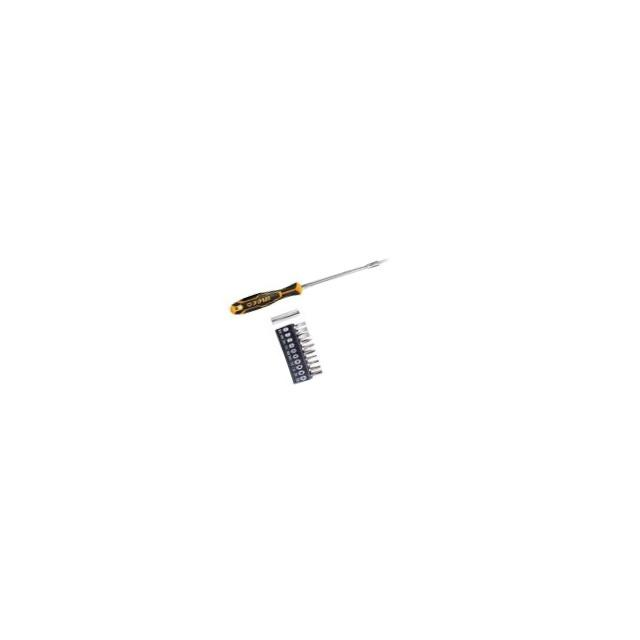screwdriver: (225, 249, 392, 320)
